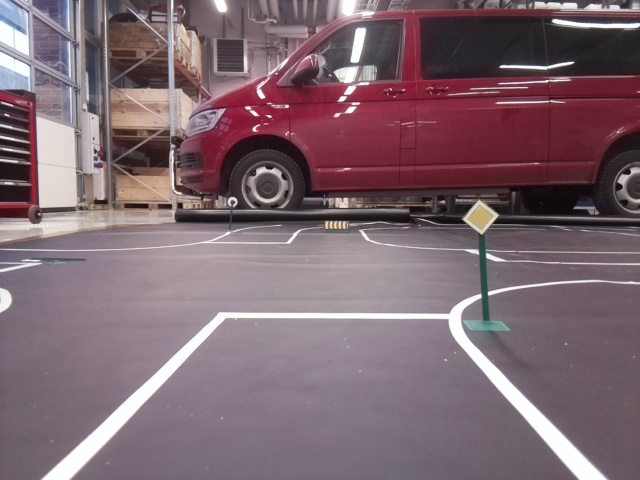Priority: (461, 199, 498, 233)
